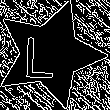L_N: (33, 28, 67, 80)
